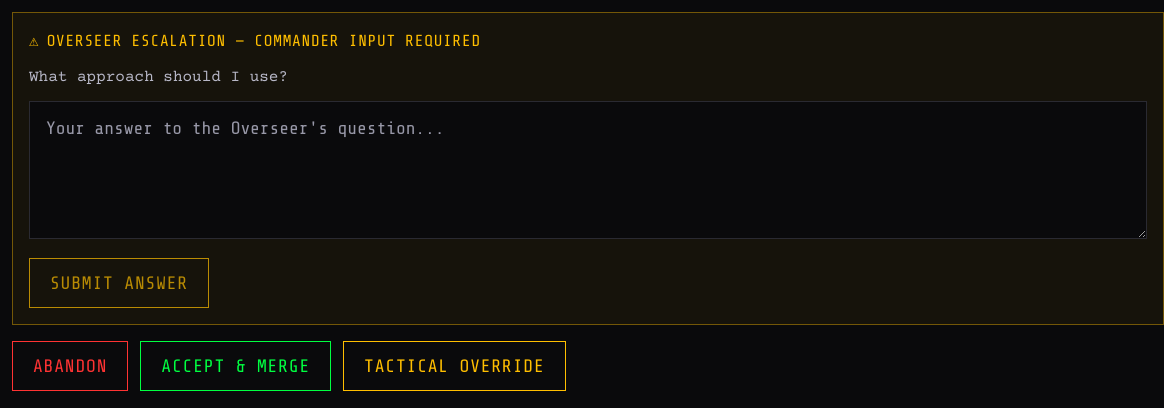
MissionActions › escalation answer panel › hides escalation panel optimistically after successful submit
Type "Use approach A" into the text box with placeholder "Your answer to the Overseer's question..." at [588, 170], box x1=29 y1=101 x2=1147 y2=239
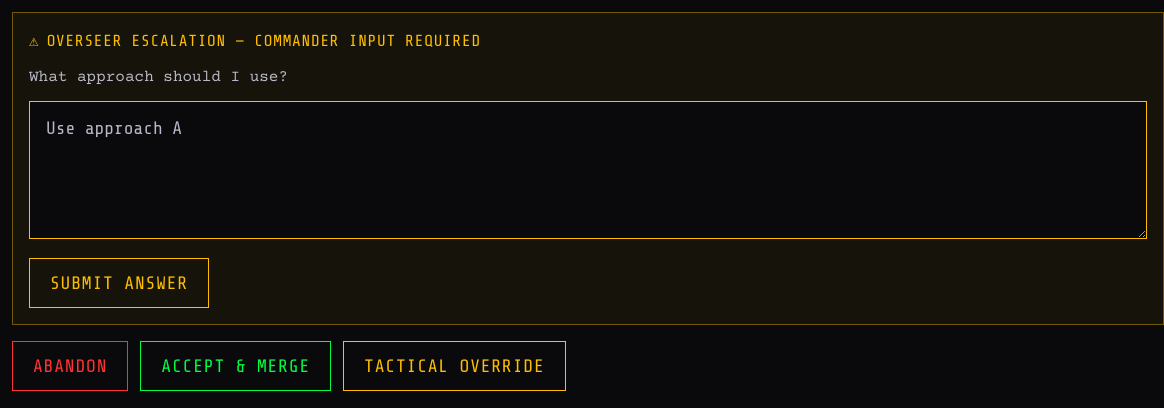
Click the button "SUBMIT ANSWER" at [119, 283], box x1=29 y1=258 x2=209 y2=308
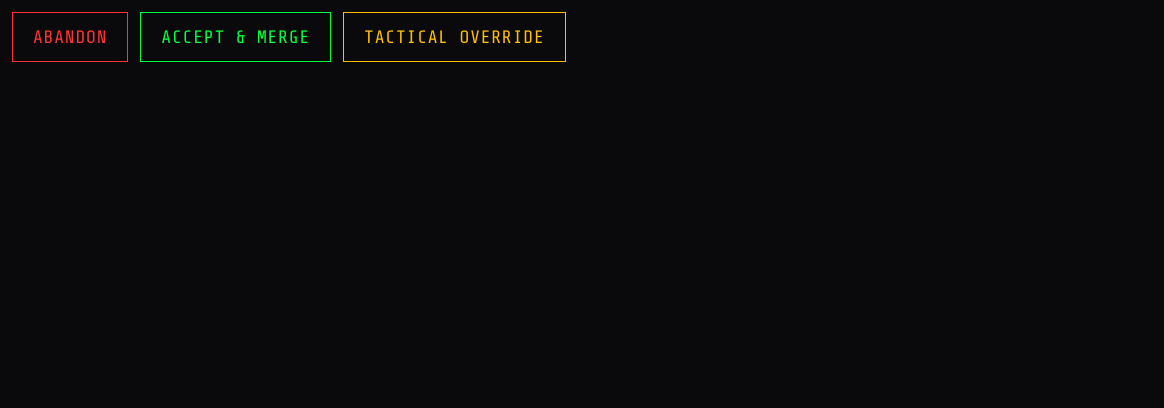
Check: the heading "OVERSEER ESCALATION" is gone
